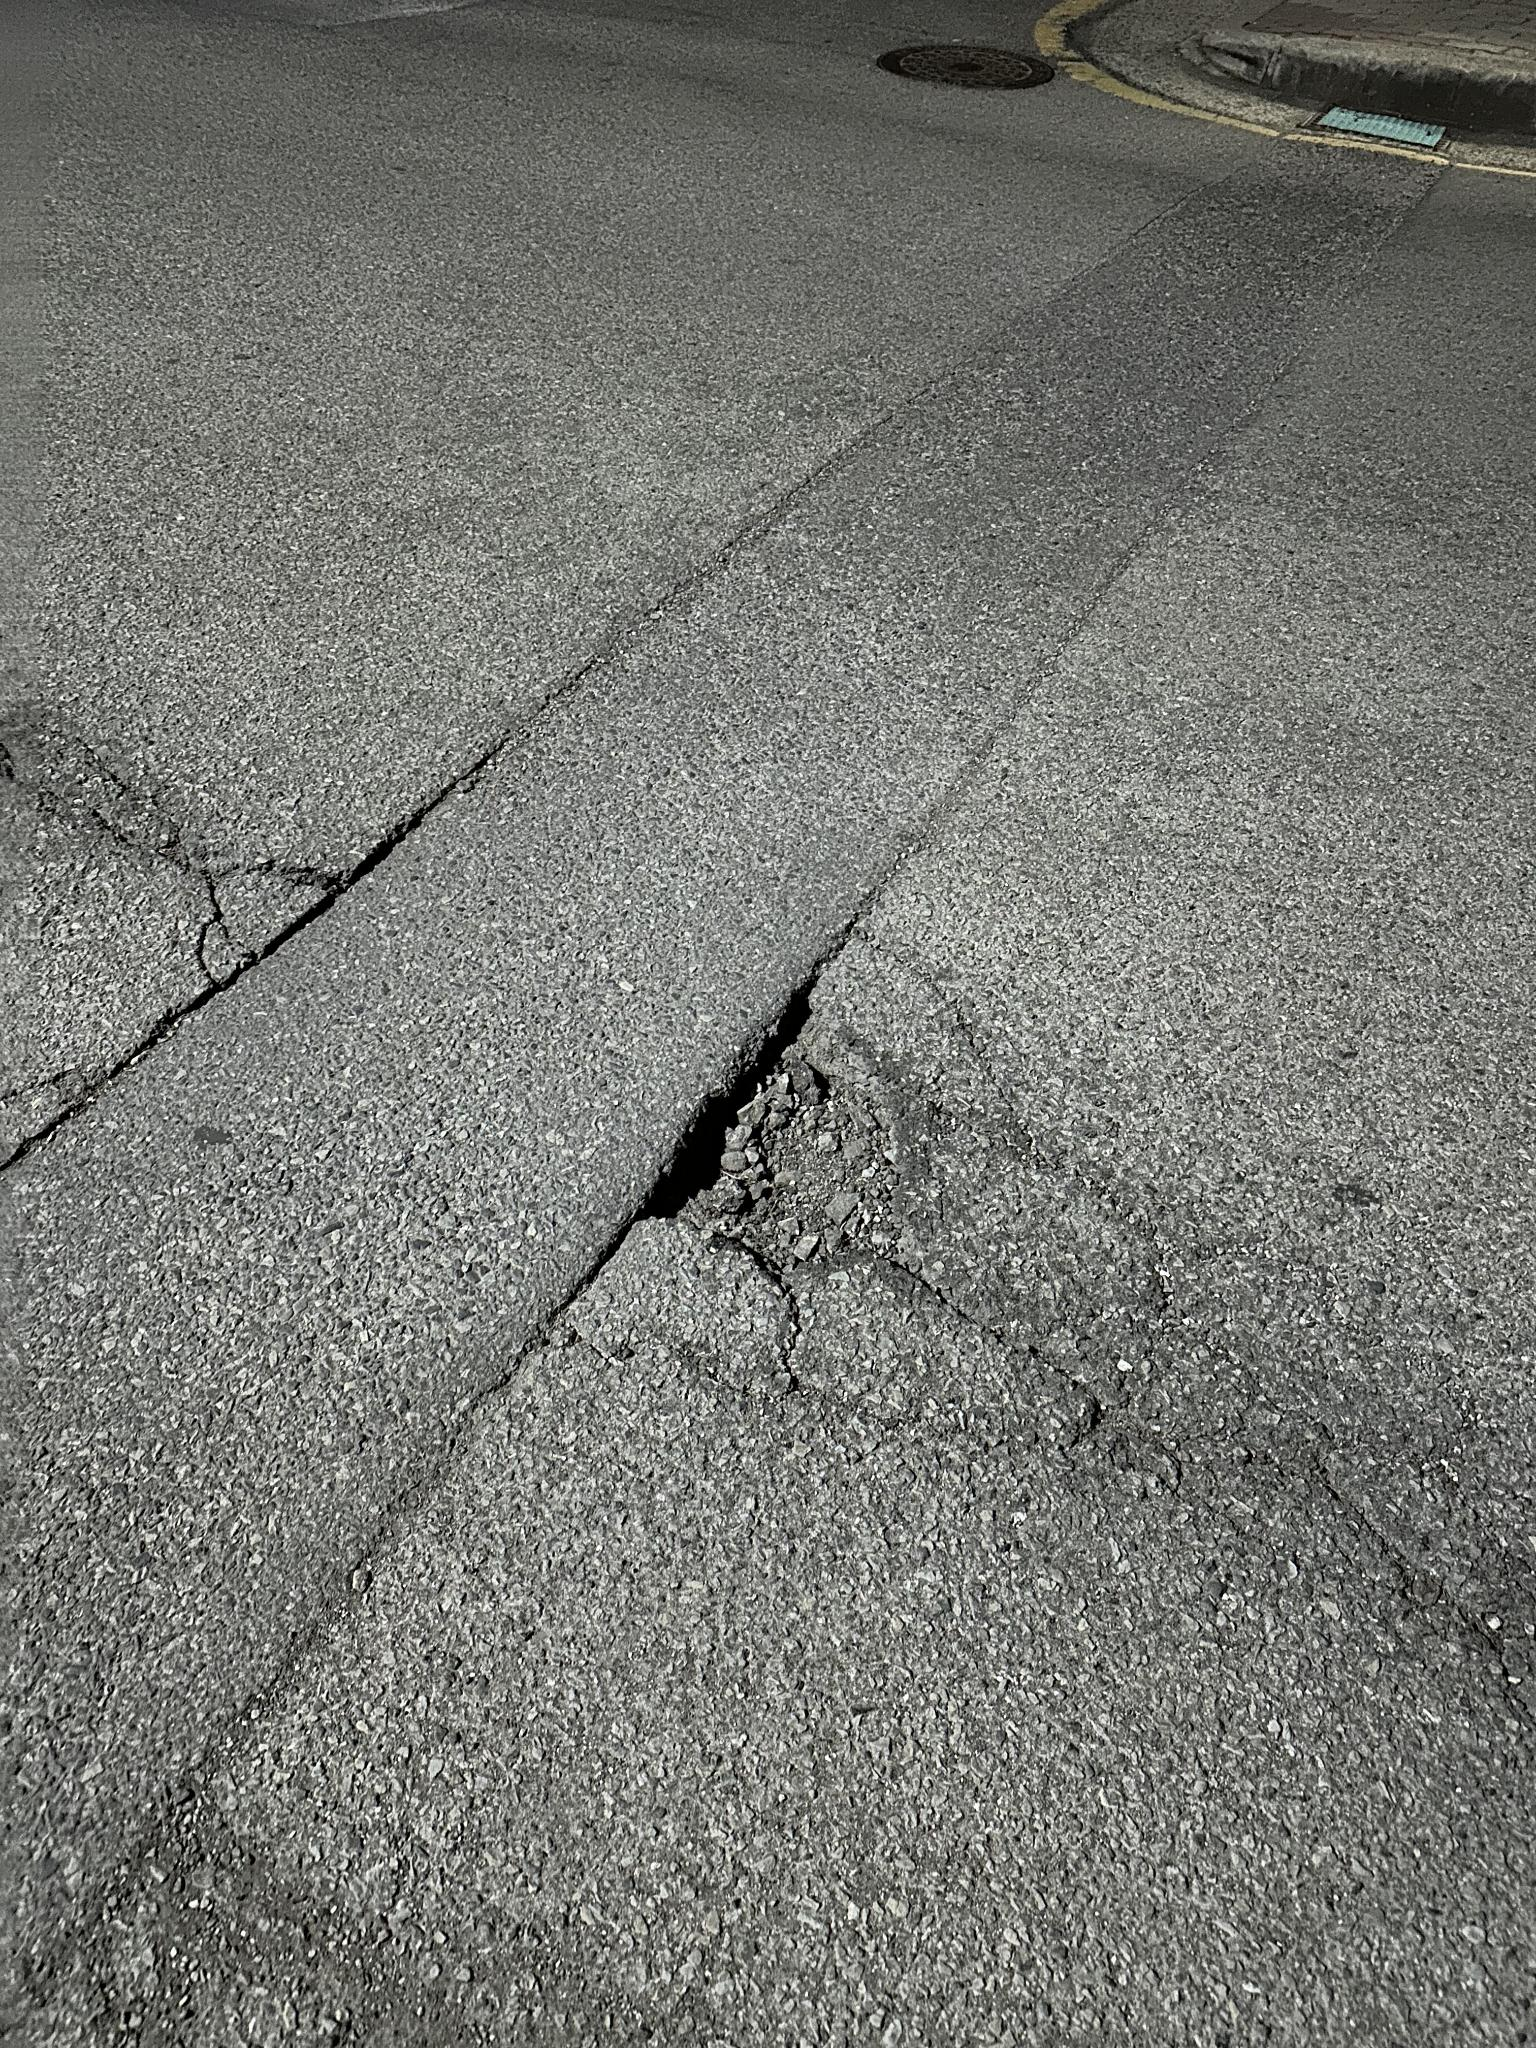pothole: (610, 964, 965, 1292)
